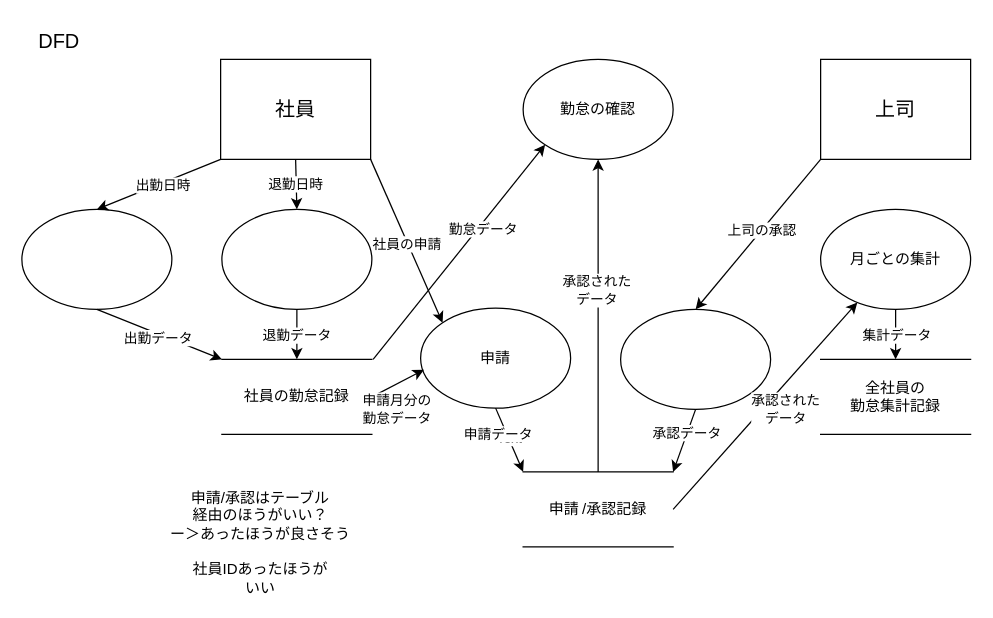
The diagram is 993 pixels wide and 618 high, and some of its shapes have lost their labels. The centre of each missing label's shape, as x and y in pixels:
出勤の記録: pixel 96 258
承認: pixel 695 358
退勤の記録: pixel 296 258
